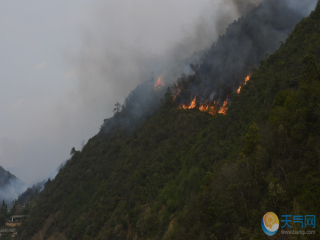fire: (178, 97, 227, 116), (233, 74, 251, 94), (152, 76, 166, 90)
smoke: (154, 5, 304, 86)
